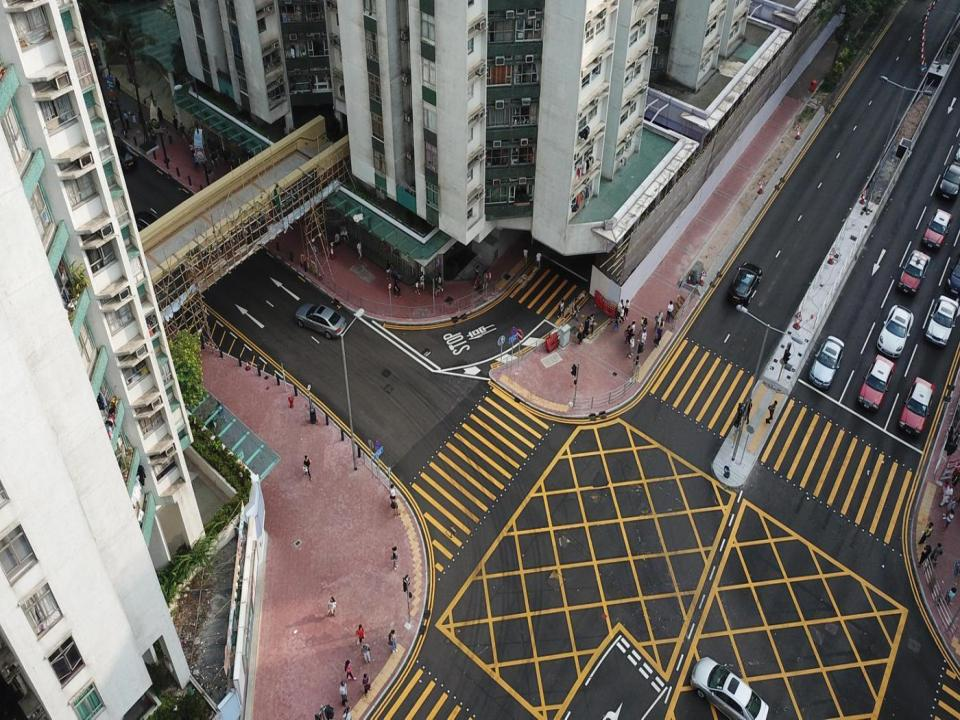car: (690, 655, 768, 719), (856, 355, 895, 410), (876, 304, 914, 357), (901, 376, 936, 433), (809, 334, 845, 389), (292, 302, 348, 336), (925, 295, 960, 346), (726, 261, 762, 309), (900, 248, 930, 294), (922, 207, 952, 248), (937, 161, 960, 204), (944, 252, 960, 295)
